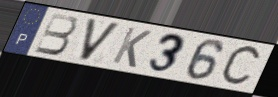3: (146, 32, 190, 75)
6: (185, 38, 225, 82)
B: (32, 11, 79, 56)
C: (218, 44, 265, 88)
K: (109, 25, 154, 70)
V: (79, 17, 124, 64)
